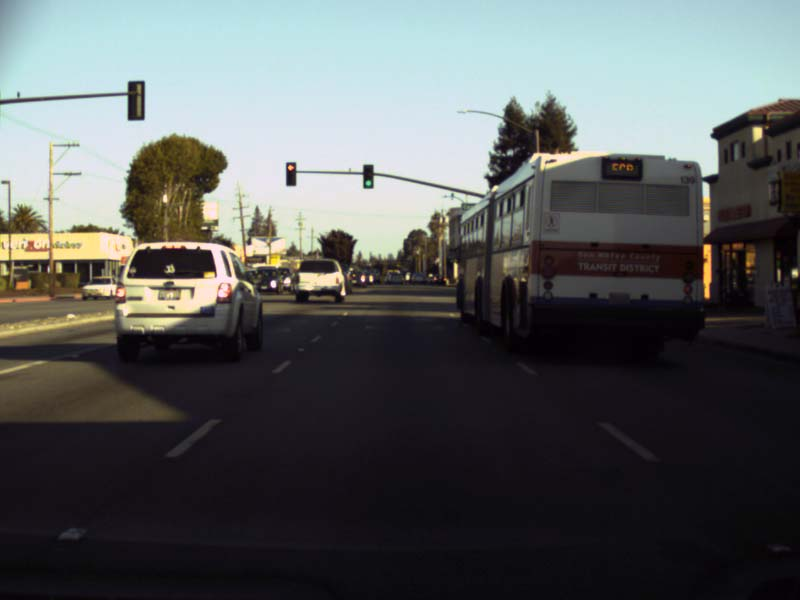Green: (362, 164, 373, 187)
Red: (285, 162, 296, 186)
